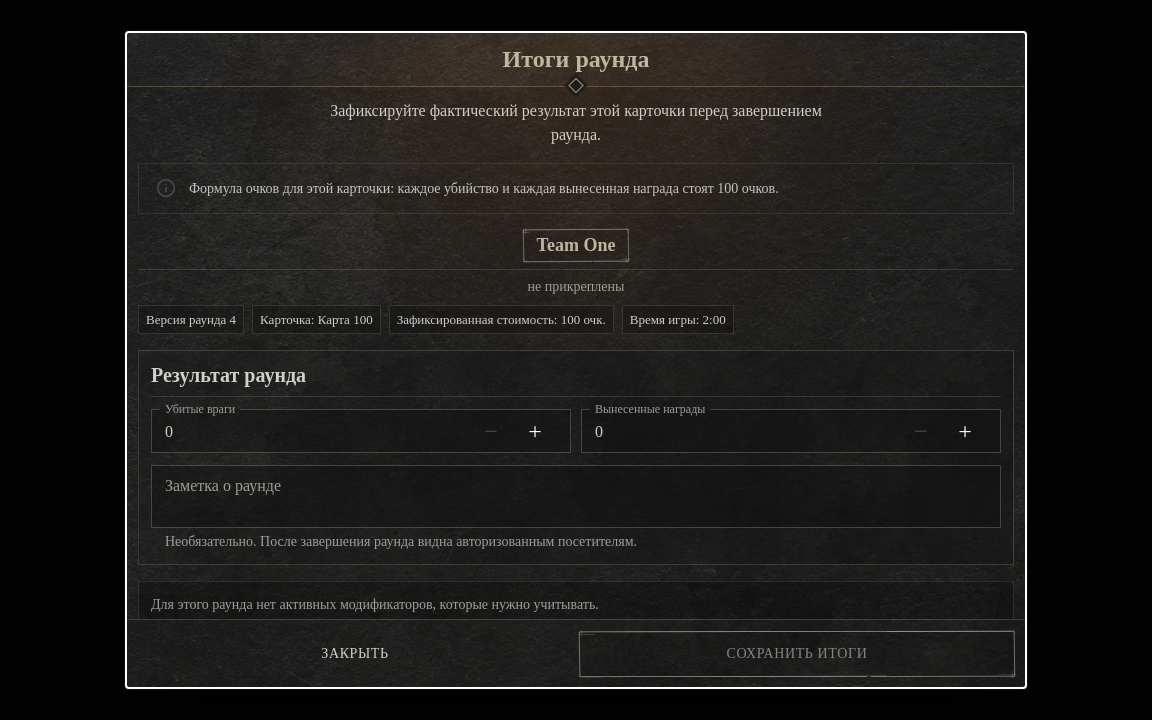
GameRoundSummaryDialog › serializes publications and ignores the older calculation while a newer draft waits
The width and height of the screenshot is (1152, 720).
Replace the text in the number field labelled "Убитые враги" with "2" at coordinates (306, 431), box [151,411,461,451]
(page scrolled)
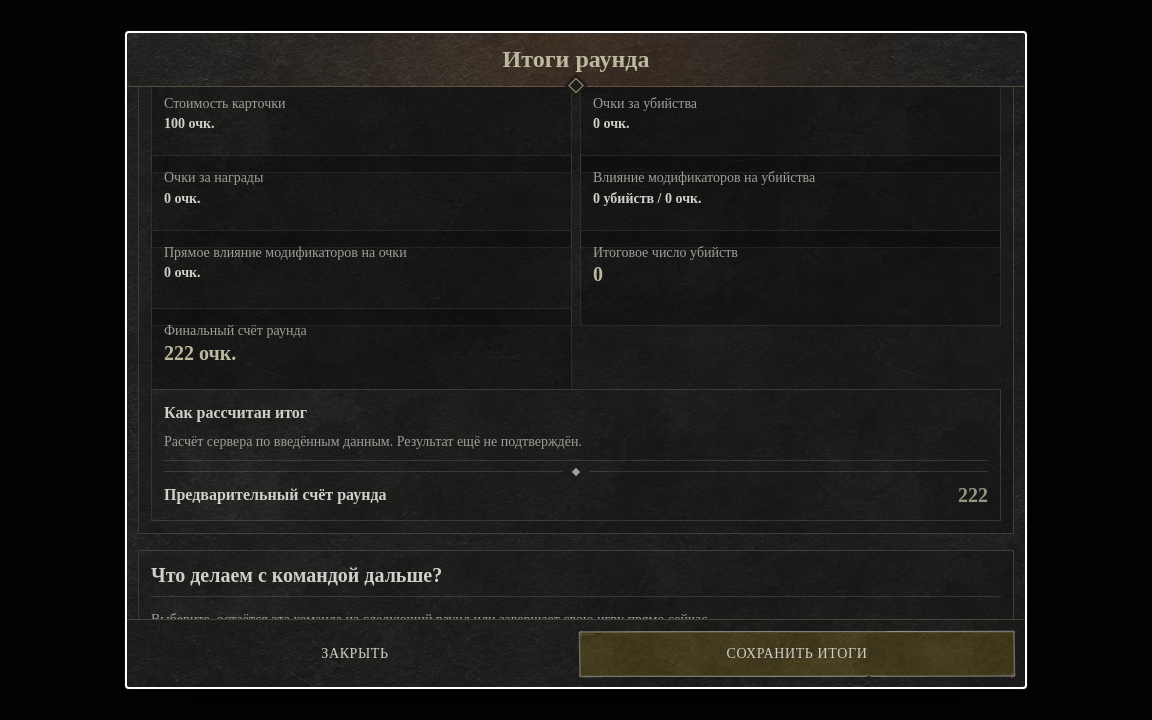
expect the text "222 очк." is shown: met, box [164,342,236,364]
